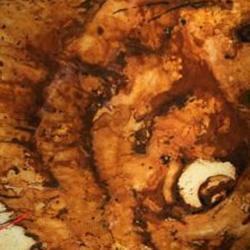rust: (1, 1, 164, 246), (183, 1, 249, 166)
